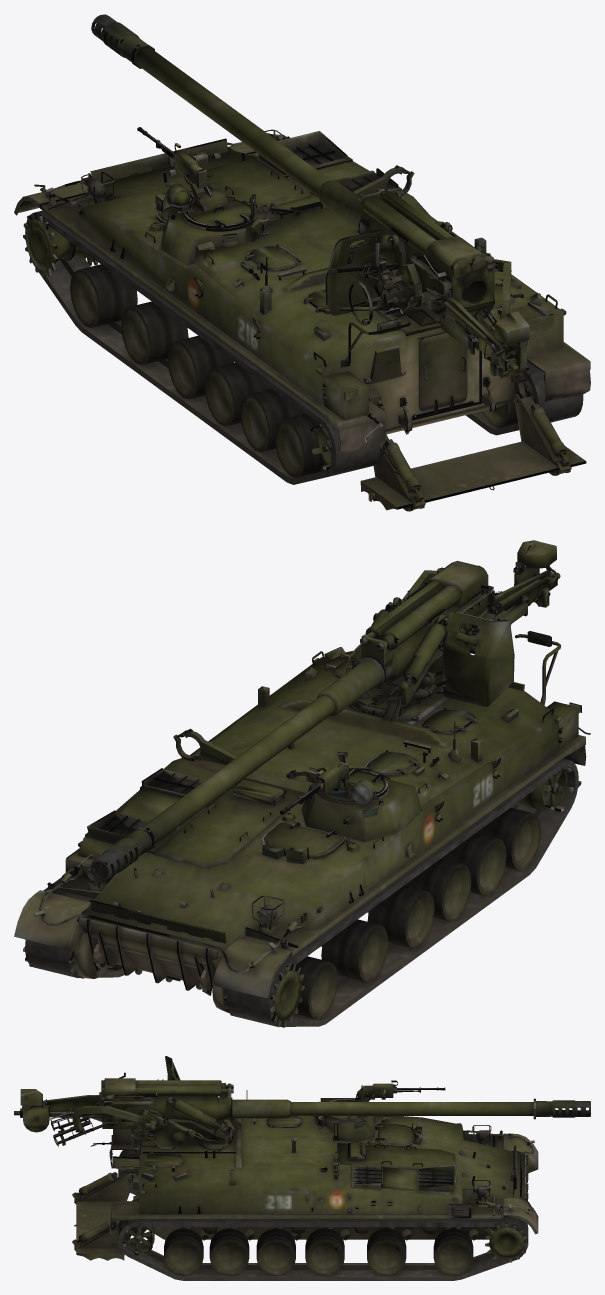
File: giatsint.glb
The picture shows the model from 3 angles, top to bottom: view 1: azimuth 30°, elevation 25°; view 2: azimuth 150°, elevation 25°; view 3: azimuth 270°, elevation 25°; orthographic projection. The views are drawn at different scales.
Parts seen in each view (by area): view 1: hull; view 2: hull; view 3: hull.
Boxes of the visible parts, x1,y1,x2,y2 form: hull: (14,14,590,511); hull: (14,540,590,1027); hull: (14,1056,590,1280).
Size of the model in its own units: 3 by 2.71 by 8.95.
1 material, 1 textured.
